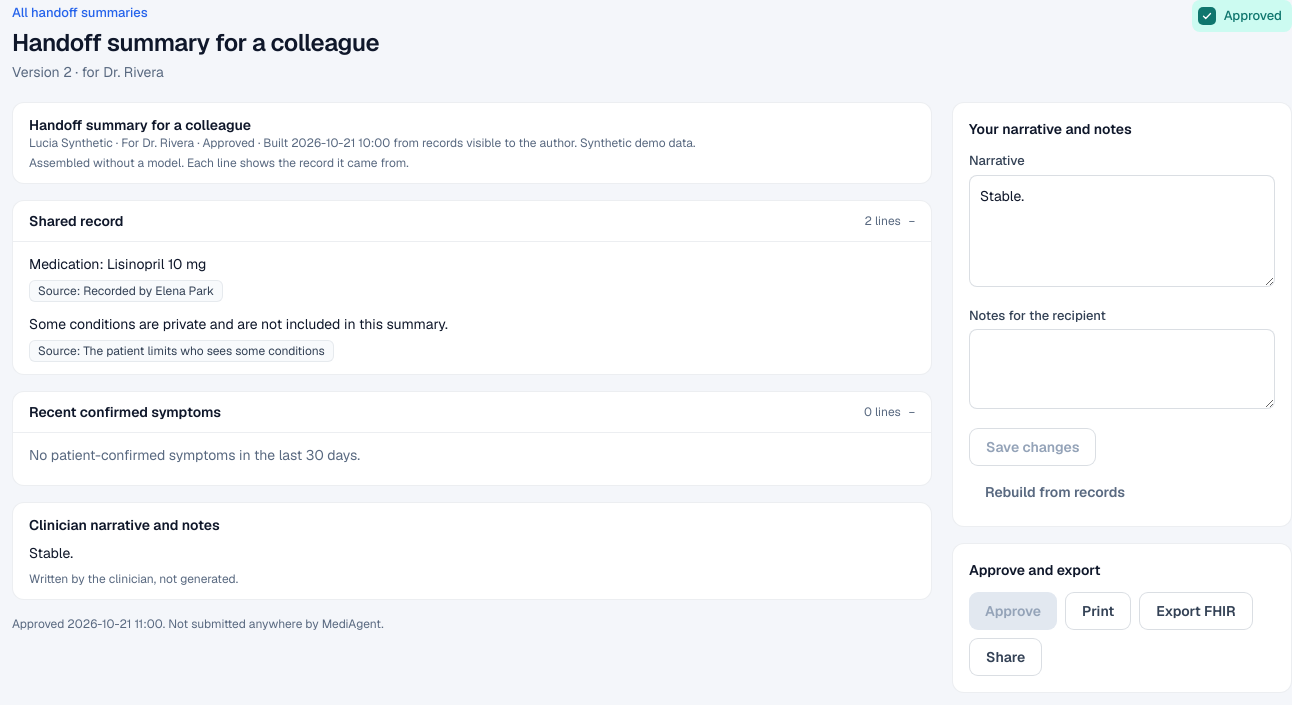
Test: HandoffSummaryReview › exports FHIR and records a print export for the approved version
The width and height of the screenshot is (1292, 705).
Expected: the text "Approved" is shown, [1192,0,1291,32]
Click the button "Print".
click(1098, 611)  # box [1065,592,1131,630]
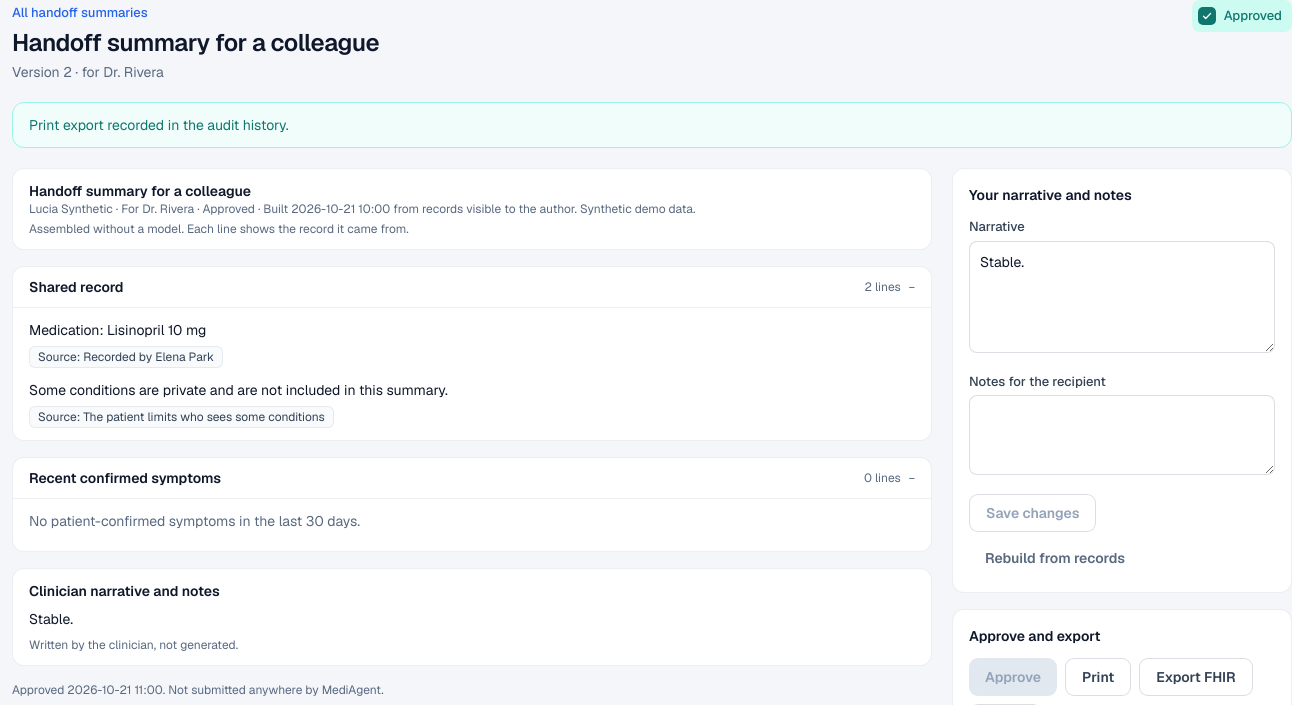
Click the button "Export FHIR".
click(1196, 677)  # box [1139,658,1252,696]
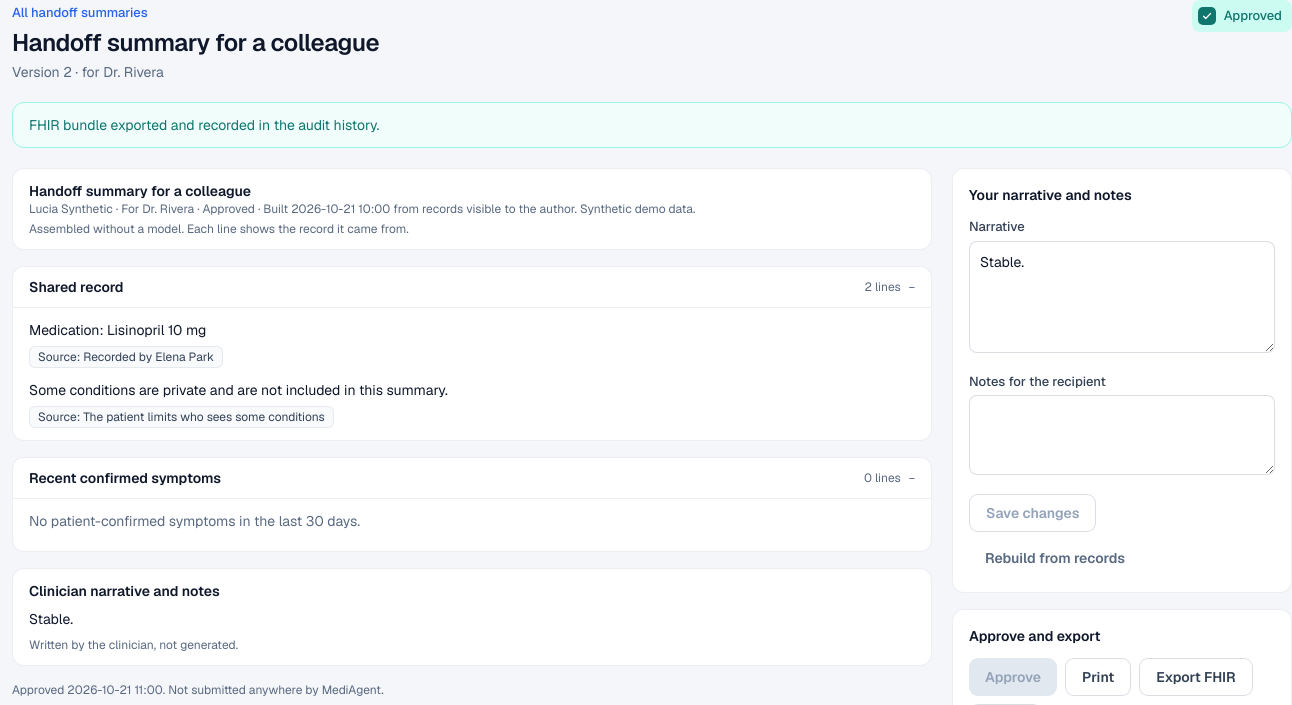
Expected: the text "FHIR bundle exported and recorded in the audit history." is shown, [12,102,1291,148]
